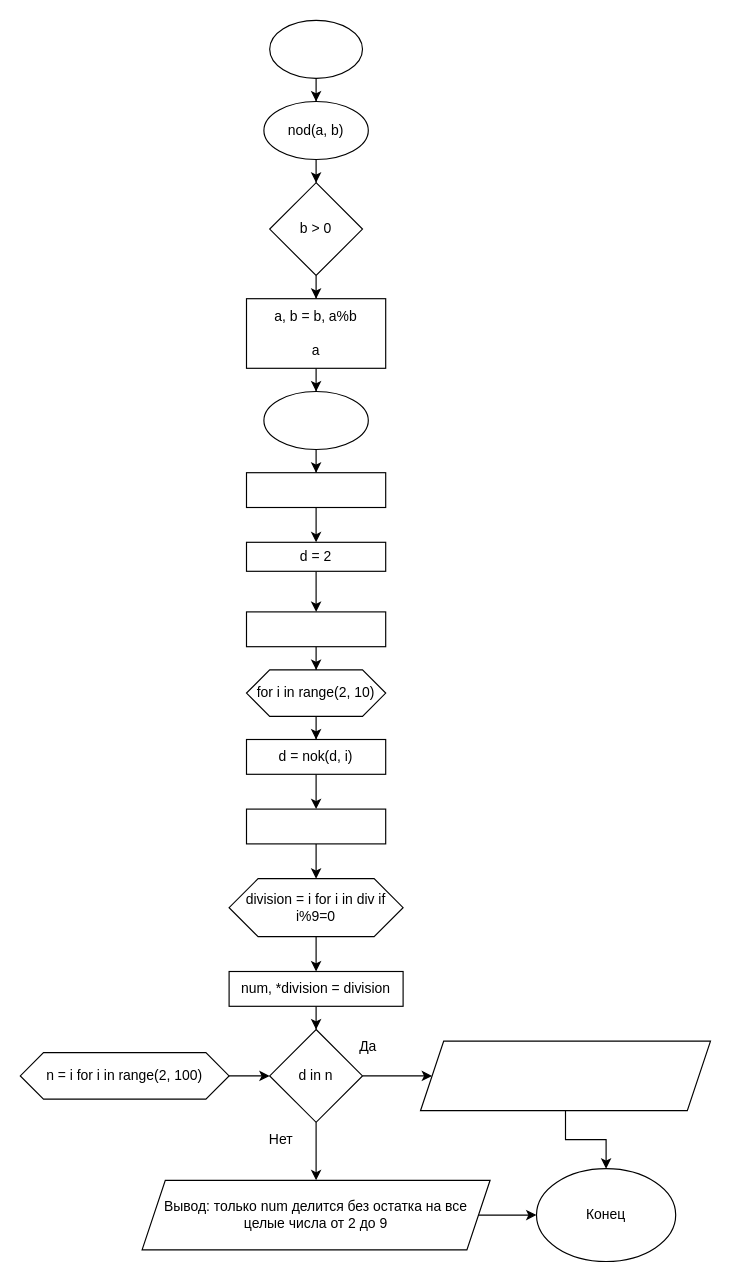
Some shapes in this 731 by 1282 pixel diagram are drawn without their labels. The shapes that lost their labels are listed below. From the top down, each one's box as (x1, y1, x2, y2) in pixels, then its label:
(269, 19, 362, 78): Начало
(263, 390, 368, 449): nok(a, b)
(245, 472, 386, 507): a * b // nod(a, b)
(245, 611, 386, 647): div = []
(245, 808, 386, 844): div.append(d)
(419, 1040, 710, 1111): Вывод: num делится без остатка на все целые числа от 2 до 9
